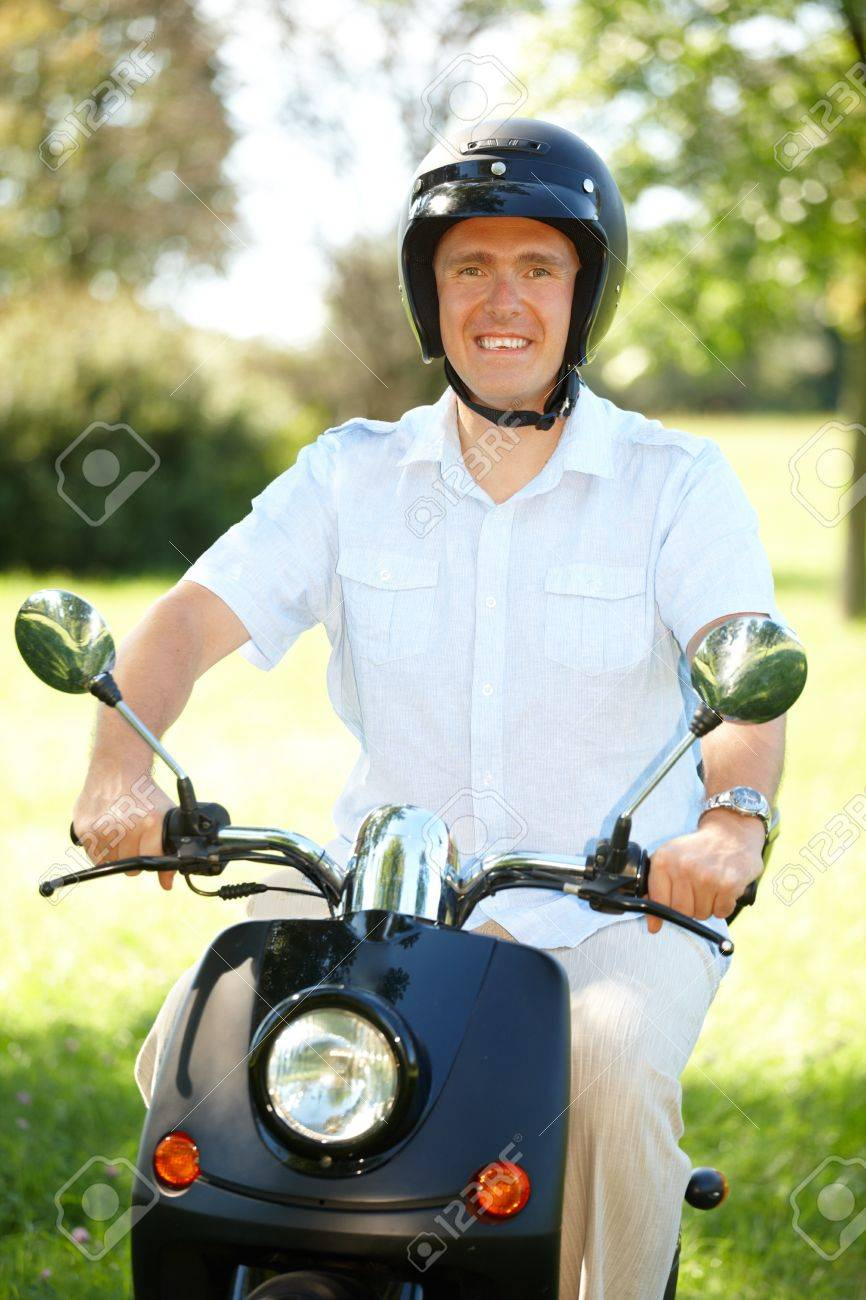with_helmet: (392, 108, 635, 360)
